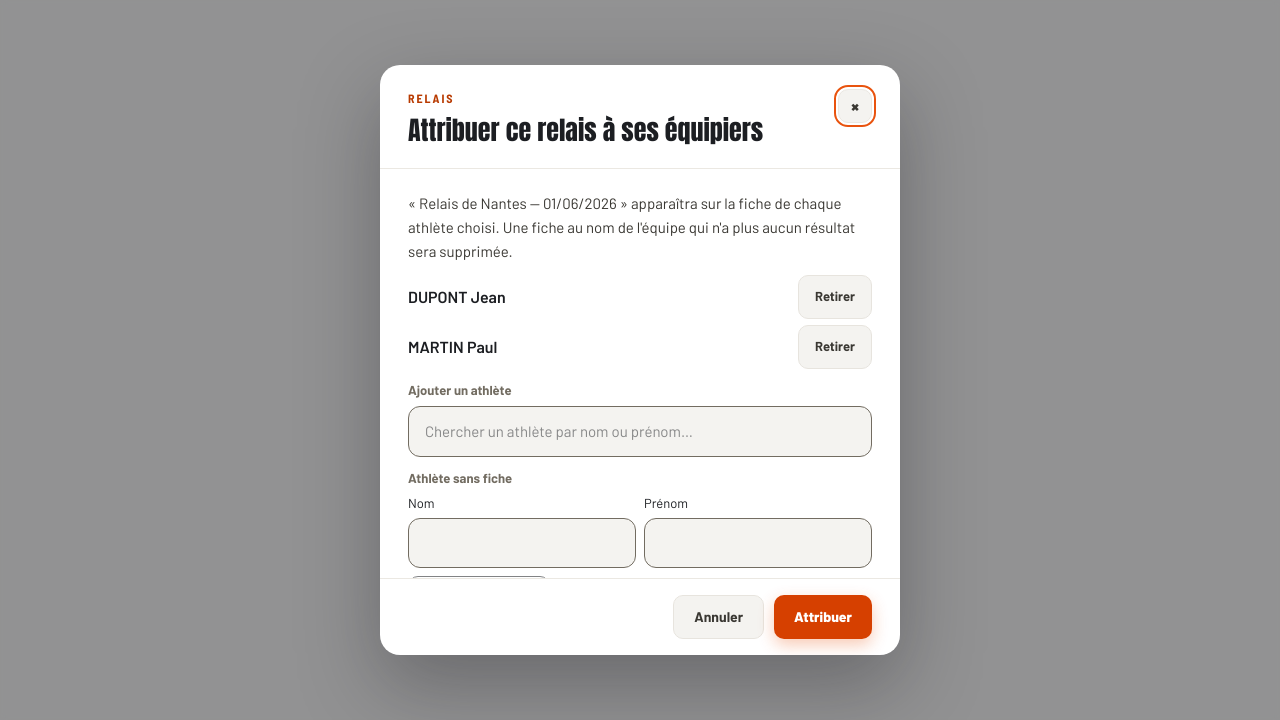
Test: TeammatesDialog › dit que l'attribution est en cours
Click the button "Attribuer" at (823, 617), box [774, 595, 872, 639]
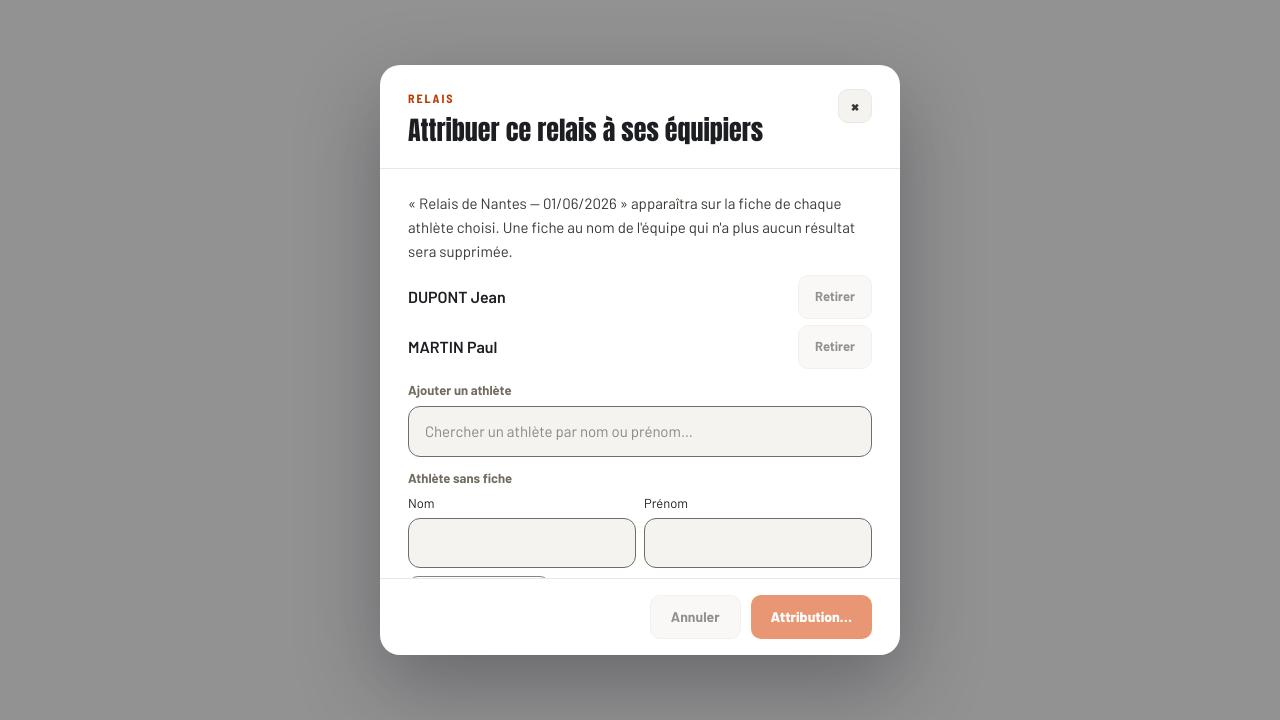
Check: the button "Attribution…" is disabled, box [751, 595, 872, 639]
